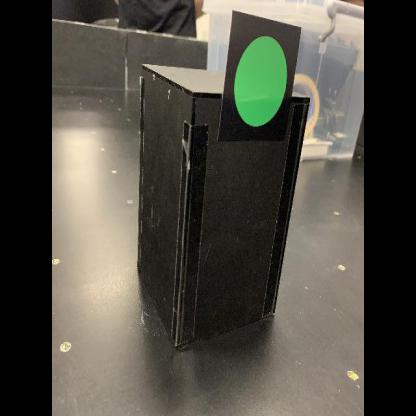go: (217, 9, 302, 144)
